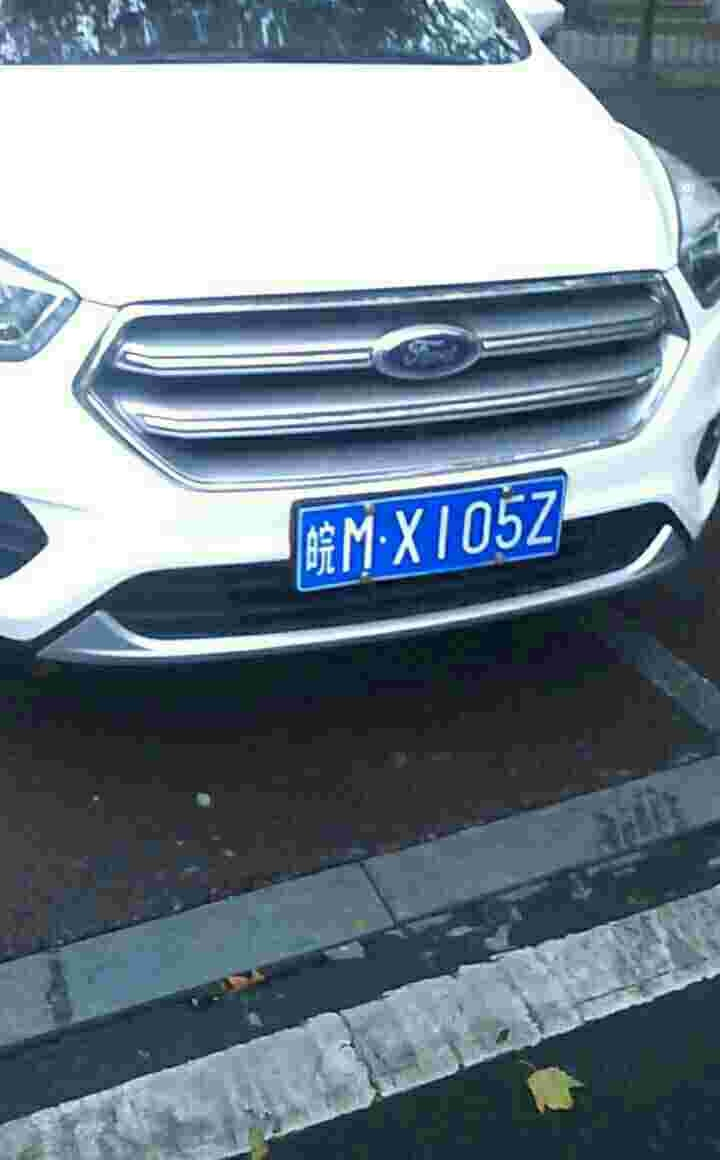car: (293, 477, 589, 575)
